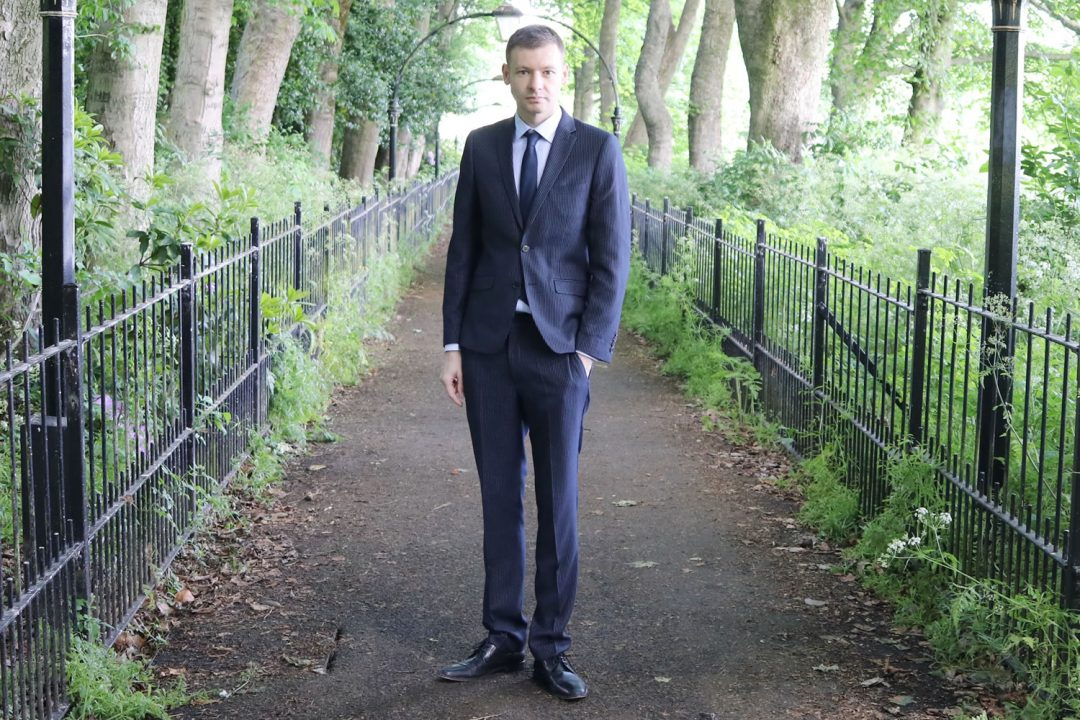F_M_suit jacket: (441, 119, 634, 365)
F_dress pants: (456, 350, 599, 672)
F_shirt: (508, 113, 554, 199)
F_tie: (521, 129, 541, 214)
